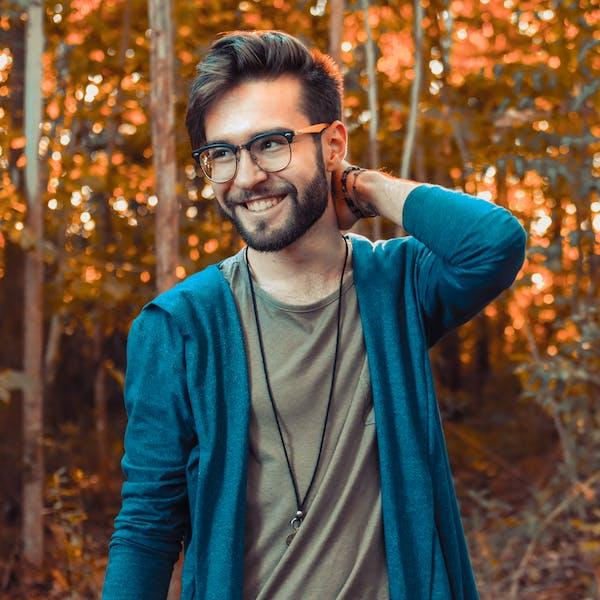spectacles: (190, 124, 301, 189)
